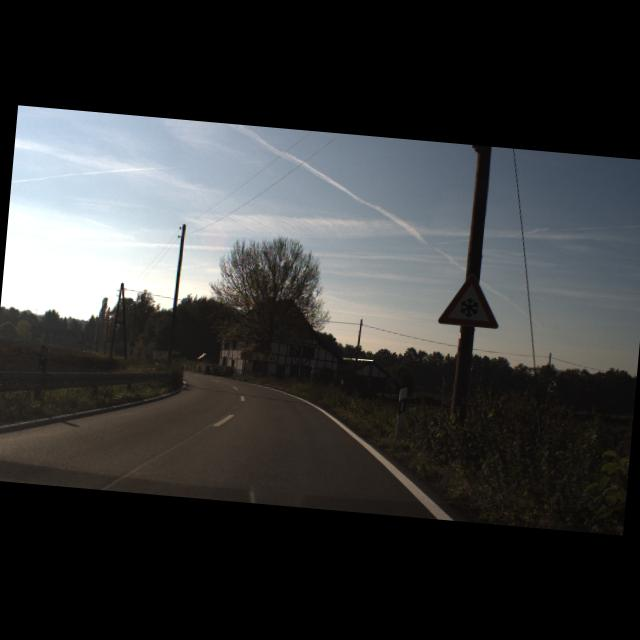danger: (437, 270, 502, 328), (264, 352, 276, 363)
